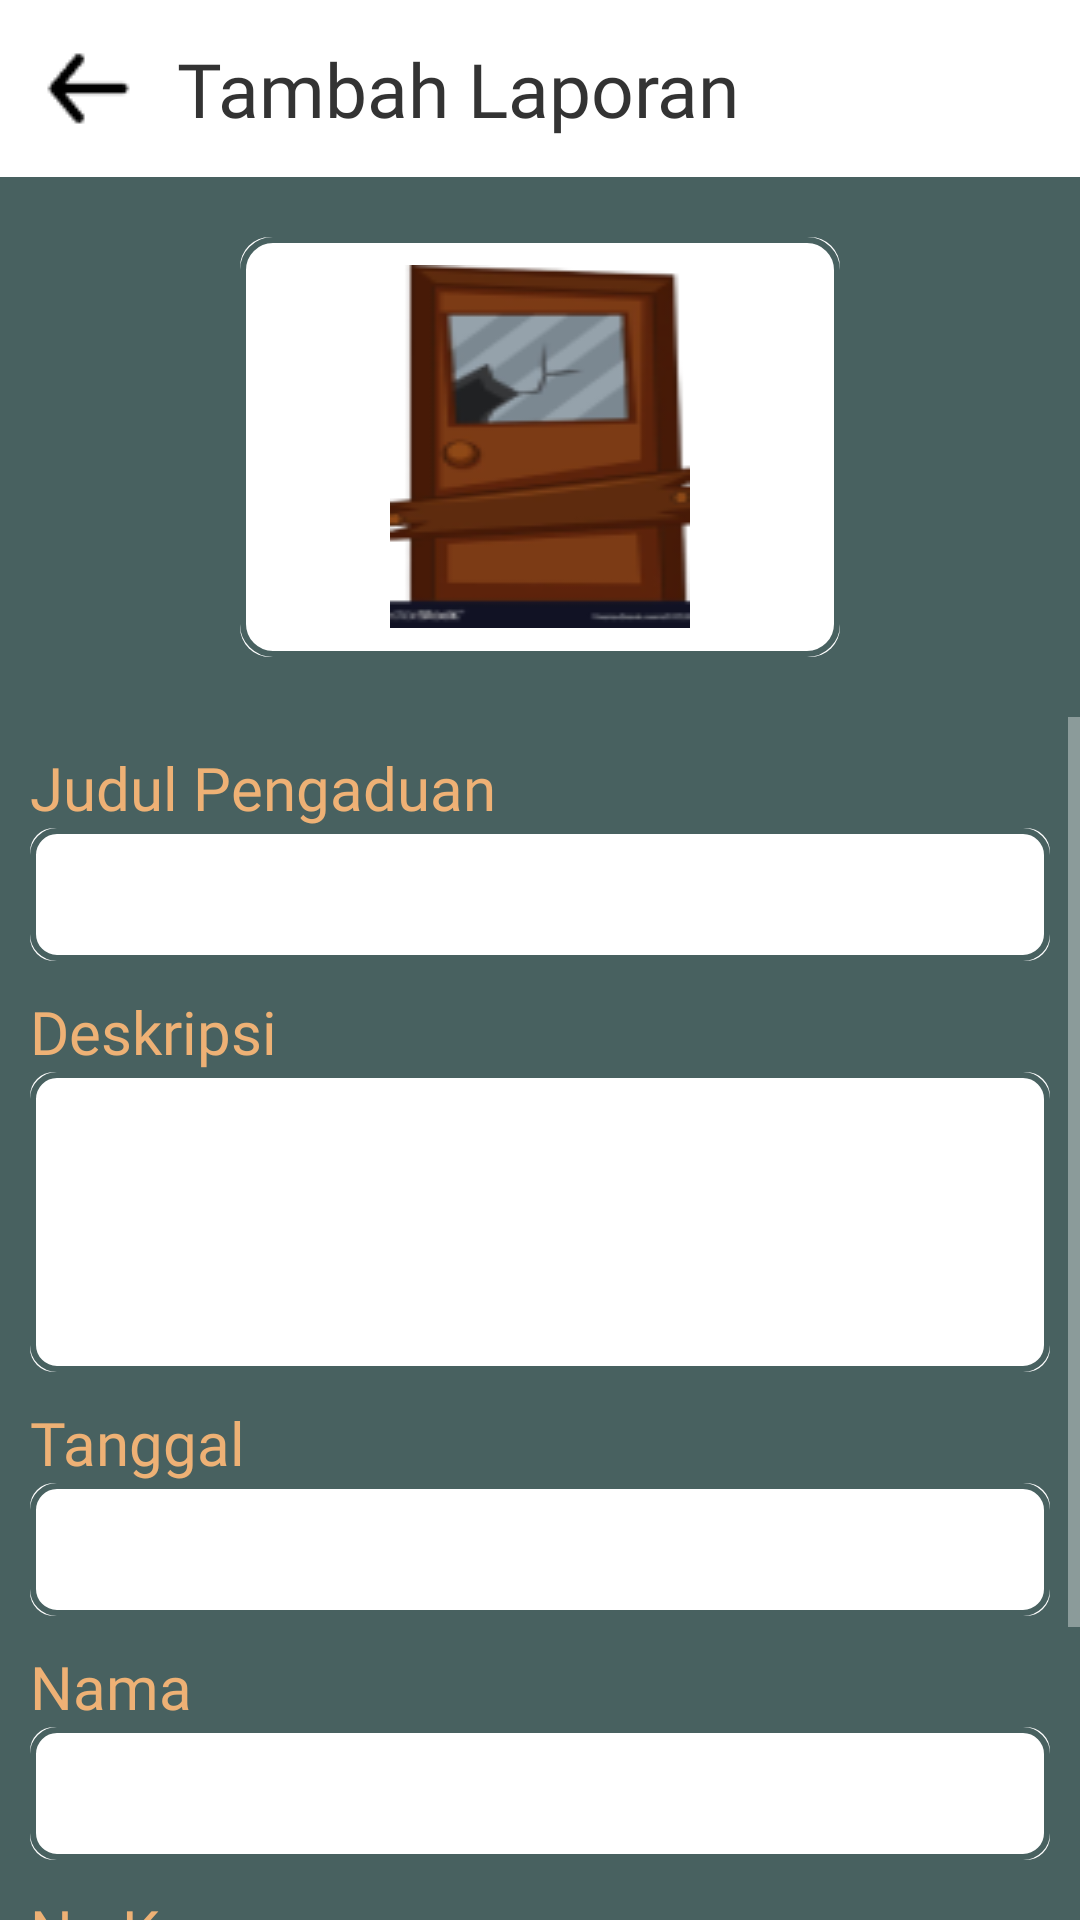

Icon bounding boxes for this 1080w x 1920h phone screenshot, format rect(x1, y1, x2, y2):
arrow: rect(47, 53, 130, 124)
